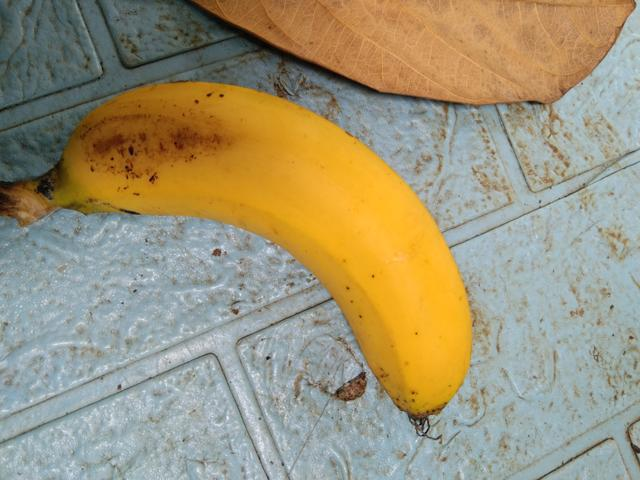freshripe: (56, 70, 482, 417)
